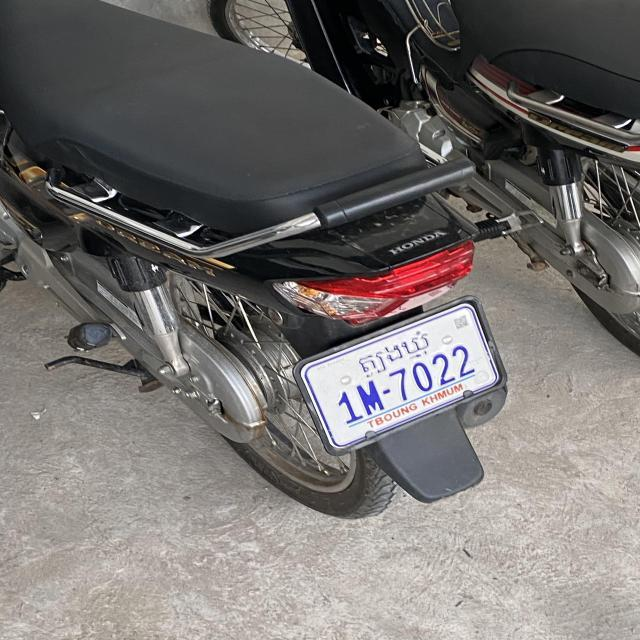Tboung_Khmum: (355, 327, 432, 375)
